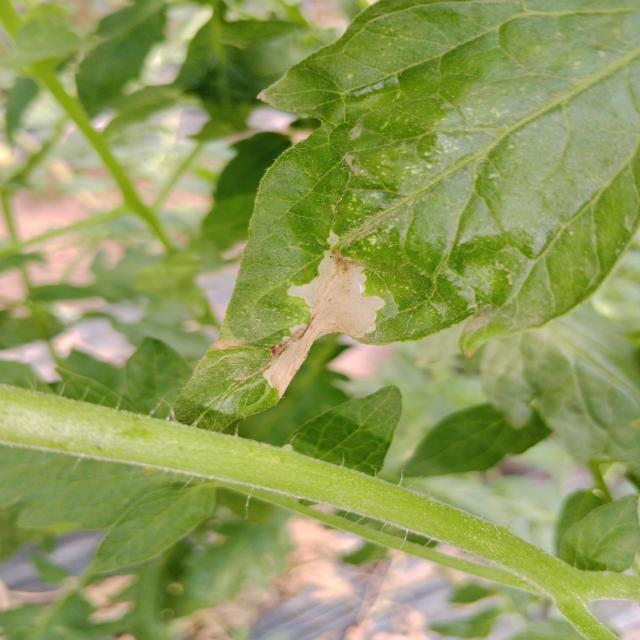Tuta absoluta: (226, 239, 397, 399)
